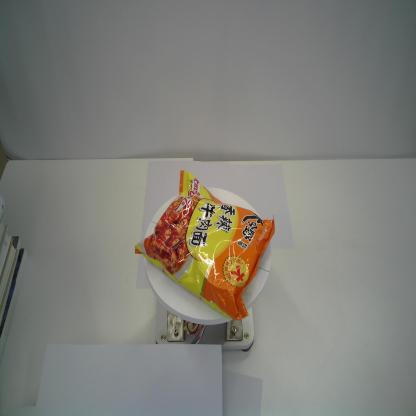Instant Noodles: (133, 169, 276, 325)
